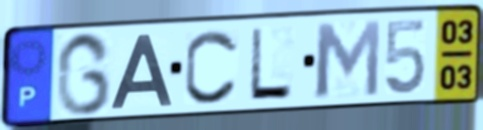5: (382, 15, 428, 96)
A: (108, 31, 175, 111)
C: (181, 27, 241, 107)
G: (53, 29, 114, 118)
L: (246, 25, 296, 102)
M: (312, 17, 384, 100)
